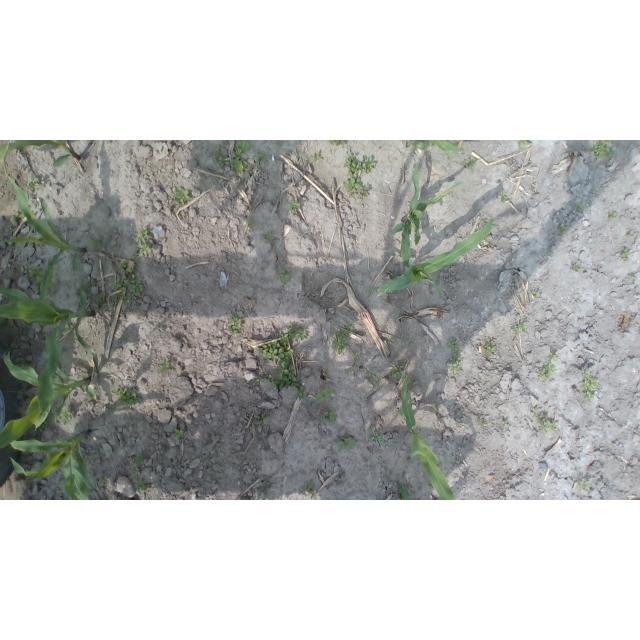Maize: (0, 285, 94, 433), (0, 146, 86, 302), (378, 220, 493, 300), (0, 349, 96, 429), (392, 164, 463, 272), (401, 377, 454, 500), (9, 432, 96, 500), (0, 140, 80, 168), (407, 140, 464, 154), (395, 478, 411, 500)
Weeds: (276, 346, 301, 390), (113, 261, 144, 296), (109, 388, 144, 413), (344, 172, 372, 201), (135, 225, 153, 259), (532, 410, 558, 433), (232, 141, 251, 172), (344, 155, 376, 173), (254, 339, 278, 361), (331, 329, 349, 356), (579, 369, 601, 391), (591, 140, 614, 161), (448, 349, 464, 376), (95, 293, 117, 311), (369, 425, 386, 448), (226, 313, 242, 336), (27, 265, 45, 285), (288, 323, 308, 341), (337, 435, 360, 450), (320, 407, 339, 425), (174, 187, 192, 206), (314, 386, 334, 403), (299, 482, 317, 500), (388, 362, 405, 380), (538, 363, 555, 380), (212, 148, 230, 164), (134, 476, 149, 492), (275, 267, 291, 281), (484, 340, 497, 357), (159, 356, 172, 372), (58, 407, 72, 421), (74, 284, 87, 298), (254, 415, 270, 426), (288, 199, 300, 213), (366, 369, 380, 381), (513, 322, 528, 333), (296, 386, 307, 401), (256, 152, 269, 164), (579, 480, 591, 493), (87, 239, 101, 250), (464, 158, 478, 169), (279, 333, 289, 348), (497, 190, 509, 202), (27, 178, 40, 189), (621, 248, 632, 261), (134, 453, 144, 467), (130, 468, 141, 479), (447, 337, 458, 348), (312, 150, 322, 161), (585, 391, 595, 402), (175, 429, 185, 440), (558, 224, 568, 235), (329, 140, 347, 146), (517, 140, 529, 148), (263, 232, 273, 241), (571, 264, 581, 273), (123, 296, 133, 305), (549, 352, 558, 361), (577, 203, 585, 213), (608, 211, 616, 221), (247, 220, 255, 229), (352, 351, 360, 360), (366, 285, 377, 291), (434, 404, 442, 412), (501, 421, 509, 429), (344, 325, 353, 332), (12, 212, 19, 220), (259, 493, 267, 499), (532, 291, 540, 297), (34, 234, 42, 239), (248, 164, 254, 170), (630, 275, 636, 280), (109, 496, 116, 500), (1, 292, 4, 300), (344, 369, 350, 373), (628, 232, 632, 237)
